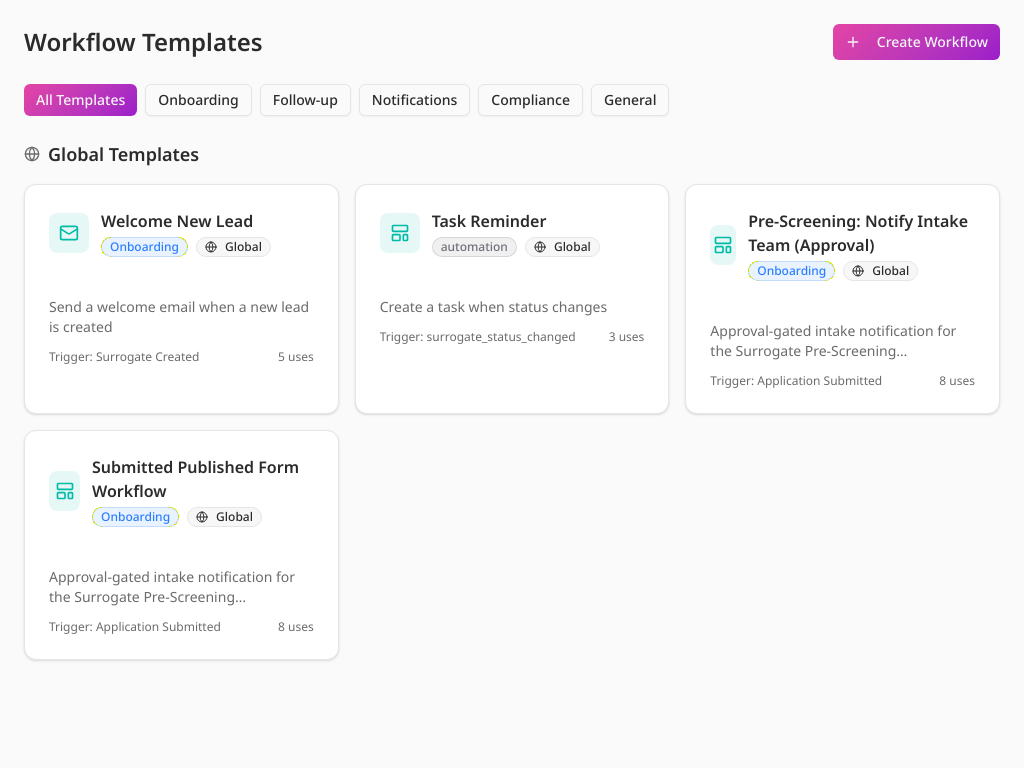
Test: WorkflowTemplatesPanel › shows email template selection when template with missing email is selected
Click the button with aria-label "use template welcome new lead" at (181, 299), box [24,184,339,414]
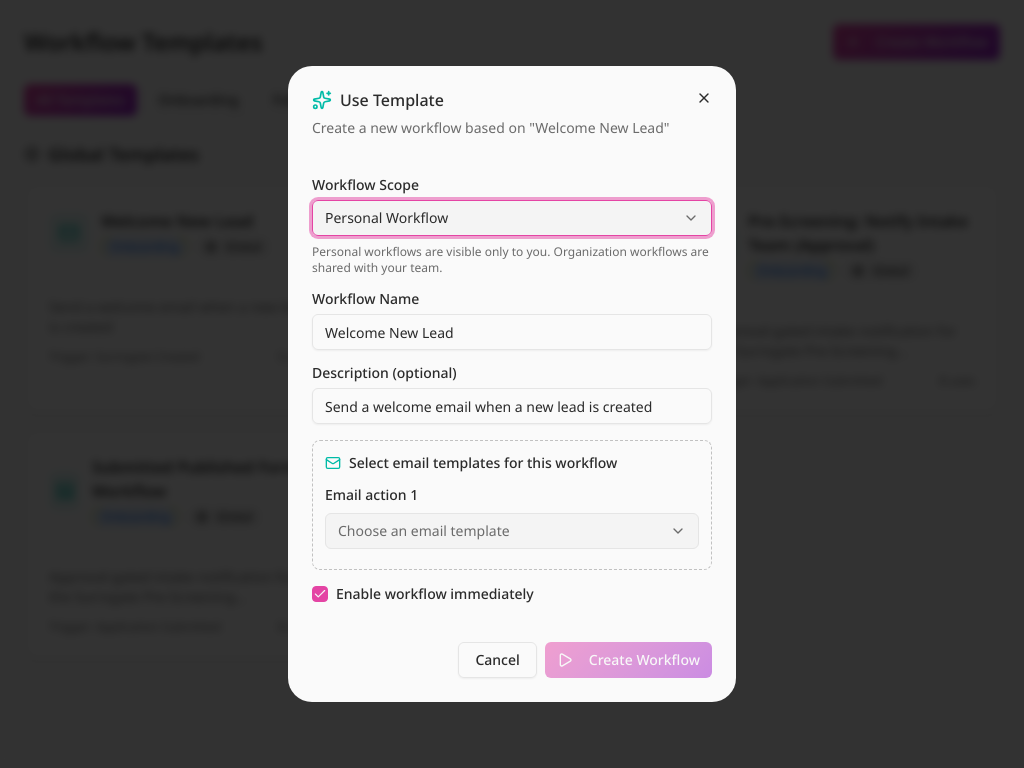
Expected: the text "Select email templates for this workflow" is shown, [325,453,617,472]
